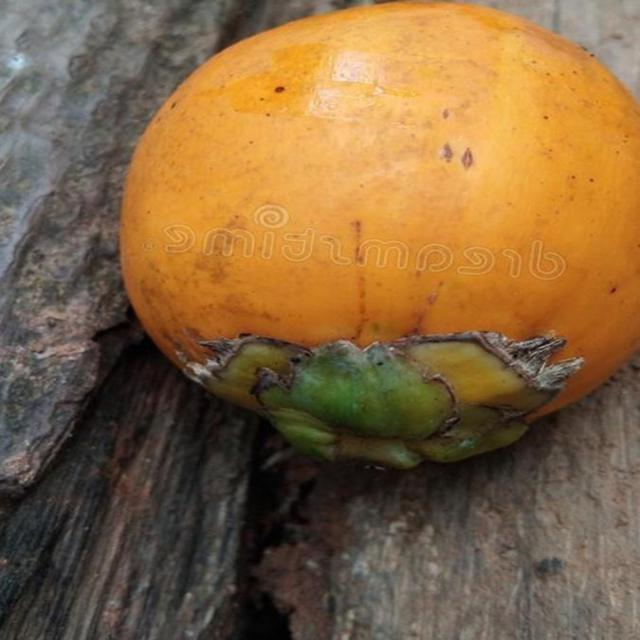good: (119, 1, 639, 473)
